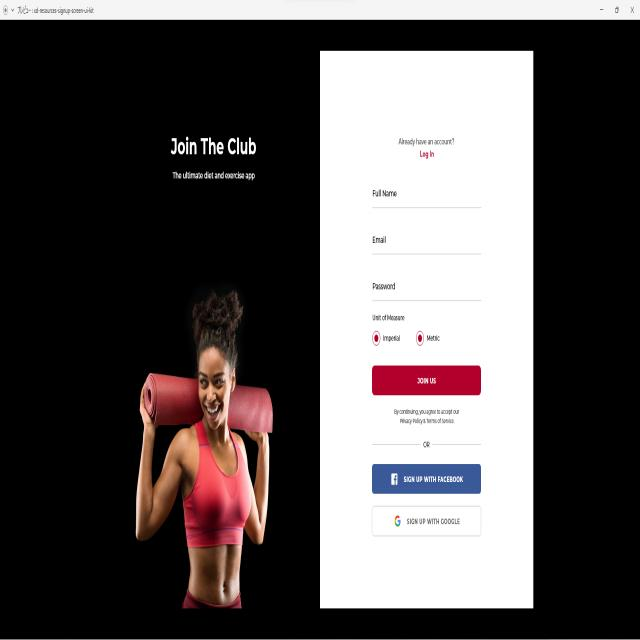radio: (415, 329, 424, 347), (372, 329, 381, 346)
